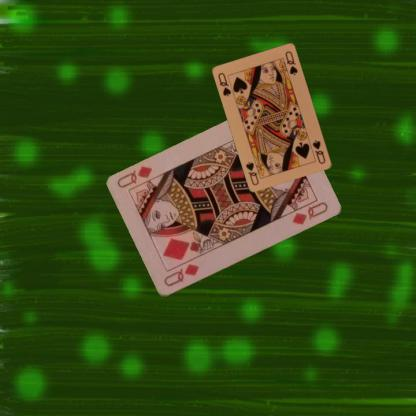Qd: (161, 261, 201, 288)
Qs: (215, 70, 233, 98), (310, 138, 327, 165)
